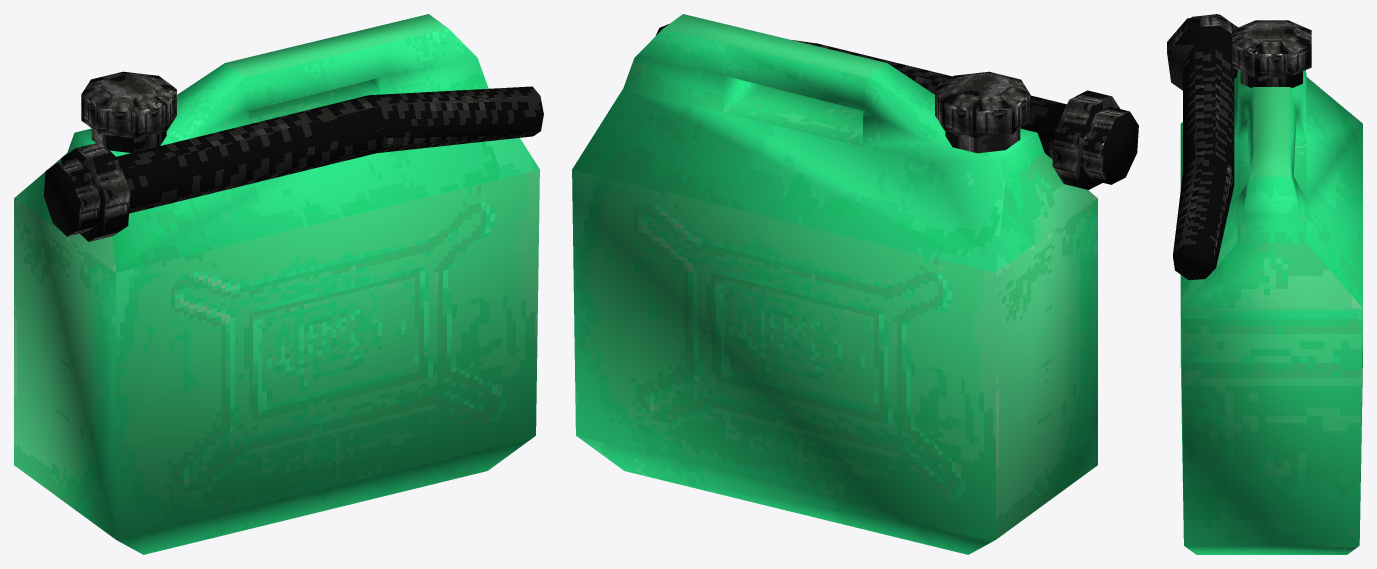
File: GasCanister5L.glb
3 views of the same model, side by side, from view 1: azimuth 30°, elevation 25°; view 2: azimuth 150°, elevation 25°; view 3: azimuth 270°, elevation 25° (orthographic). The views are drawn at different scales.
Parts seen in each view (by area): view 1: Kanisteri; view 2: Kanisteri; view 3: Kanisteri.
Part boxes in pixels (left/top/right/bottom): Kanisteri: left=14, top=14, right=543, bottom=554; Kanisteri: left=572, top=14, right=1138, bottom=554; Kanisteri: left=1167, top=14, right=1362, bottom=554.
Bounding box in the file's own units: 3.32 × 2.94 × 1.35.
1 material, 1 textured.
